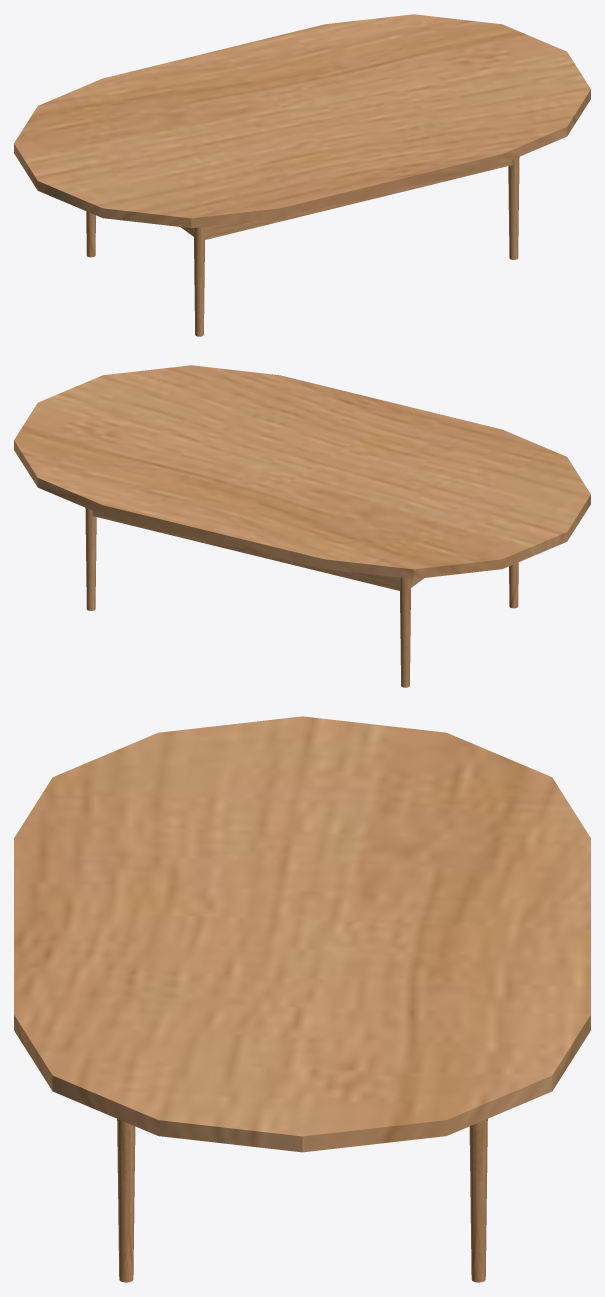
File: Meja2.fbx
3 renders of one model, top to bottom at view 1: azimuth 30°, elevation 25°; view 2: azimuth 150°, elevation 25°; view 3: azimuth 270°, elevation 25°, orthographic. The views are drawn at different scales.
Parts seen in each view (by area): view 1: Cylinder.004; view 2: Cylinder.004; view 3: Cylinder.004.
Boxes of the visible parts, x1,y1,x2,y2 form: Cylinder.004: (14, 14, 590, 336); Cylinder.004: (14, 365, 590, 687); Cylinder.004: (14, 716, 590, 1282).
Bounding box in the file's own units: 168 × 42.56 × 97.4.
Materials: 1 (1 with a texture image).
